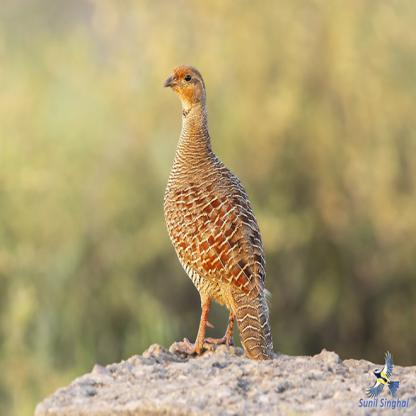Burung: (163, 64, 273, 361)
